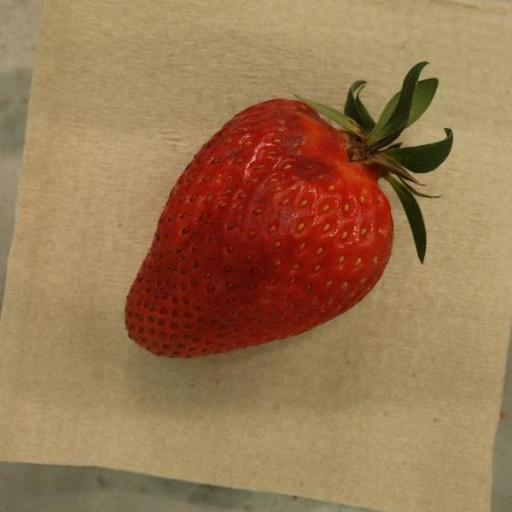Strawberry: (125, 62, 454, 359)
